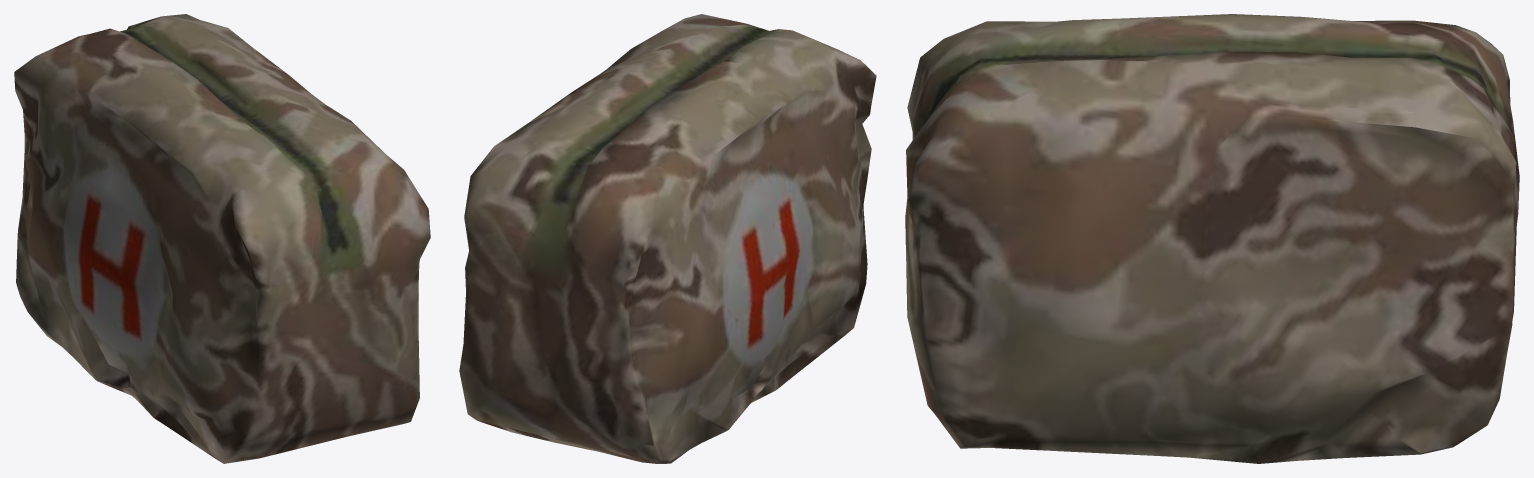
File: prop_meds.53f52c62a9.glb
The picture shows the model from 3 angles, left to right: view 1: azimuth 30°, elevation 25°; view 2: azimuth 150°, elevation 25°; view 3: azimuth 270°, elevation 25°; orthographic projection. The views are drawn at different scales.
Visible parts, largest first — view 1: First Aid Kit_First Aid Kit_0; view 2: First Aid Kit_First Aid Kit_0; view 3: First Aid Kit_First Aid Kit_0.
Boxes of the visible parts, <box> form: First Aid Kit_First Aid Kit_0: <box>14,14,430,463</box>; First Aid Kit_First Aid Kit_0: <box>459,14,876,463</box>; First Aid Kit_First Aid Kit_0: <box>905,14,1519,463</box>.
Size of the model in its own units: 0.5678 by 0.6994 by 1.05.
Materials: 1 (1 with a texture image).
